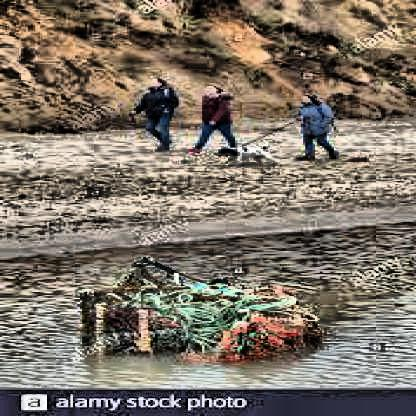Fishing wastes: (75, 254, 325, 365)
